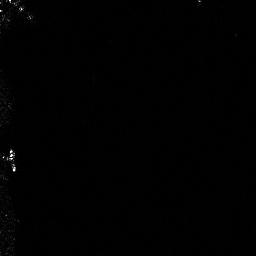ship: (6, 147, 18, 173)
